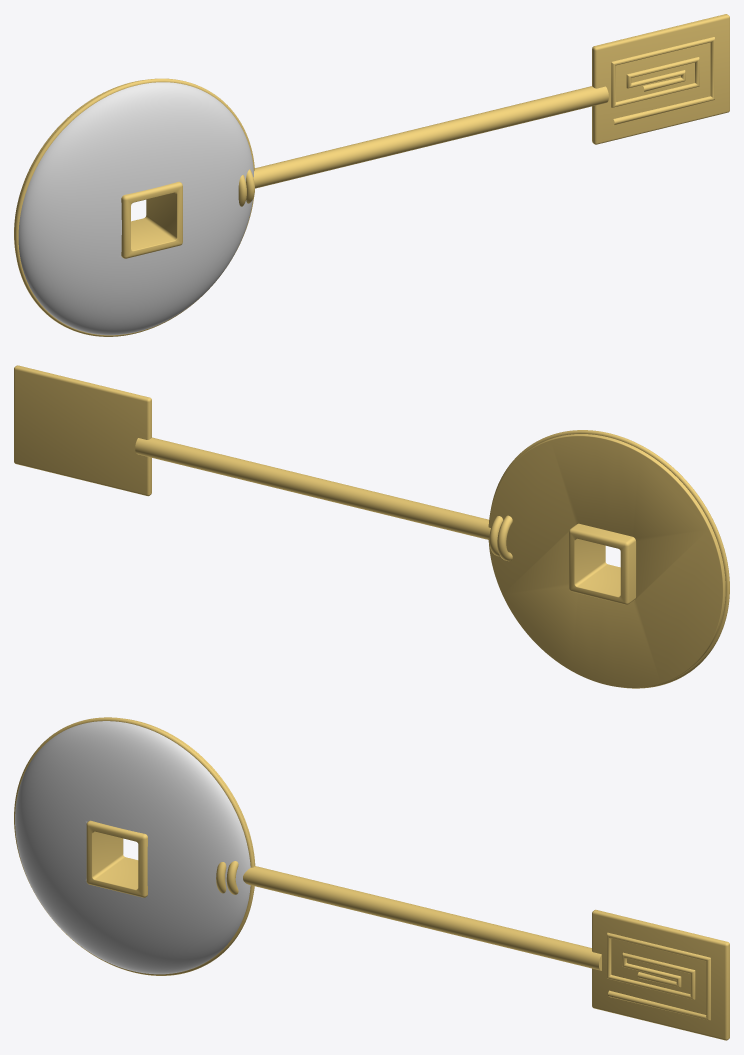
Rendered from key.glb.
3 views of the same model, one above another, from view 1: azimuth 30°, elevation 25°; view 2: azimuth 150°, elevation 25°; view 3: azimuth 330°, elevation 25° (orthographic).
Parts seen in each view (by area): view 1: JadeBi, GoldKey; view 2: GoldKey; view 3: JadeBi, GoldKey.
Boxes of the visible parts, bbox=[...] form: JadeBi: bbox=[18, 82, 253, 335]; GoldKey: bbox=[14, 14, 729, 336]; GoldKey: bbox=[14, 365, 729, 688]; JadeBi: bbox=[15, 721, 250, 974]; GoldKey: bbox=[14, 717, 729, 1040].
Size of the model in its own units: 2 by 0.6711 by 0.1562.
